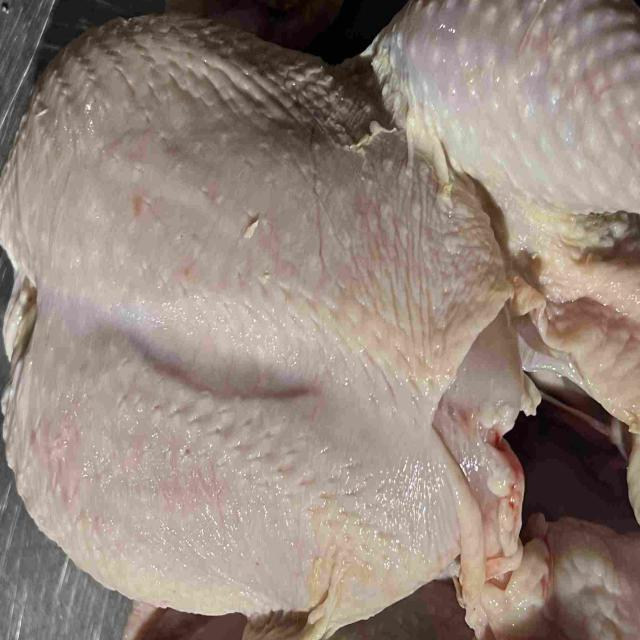breast: (0, 16, 514, 622)
leg: (370, 0, 640, 230)
